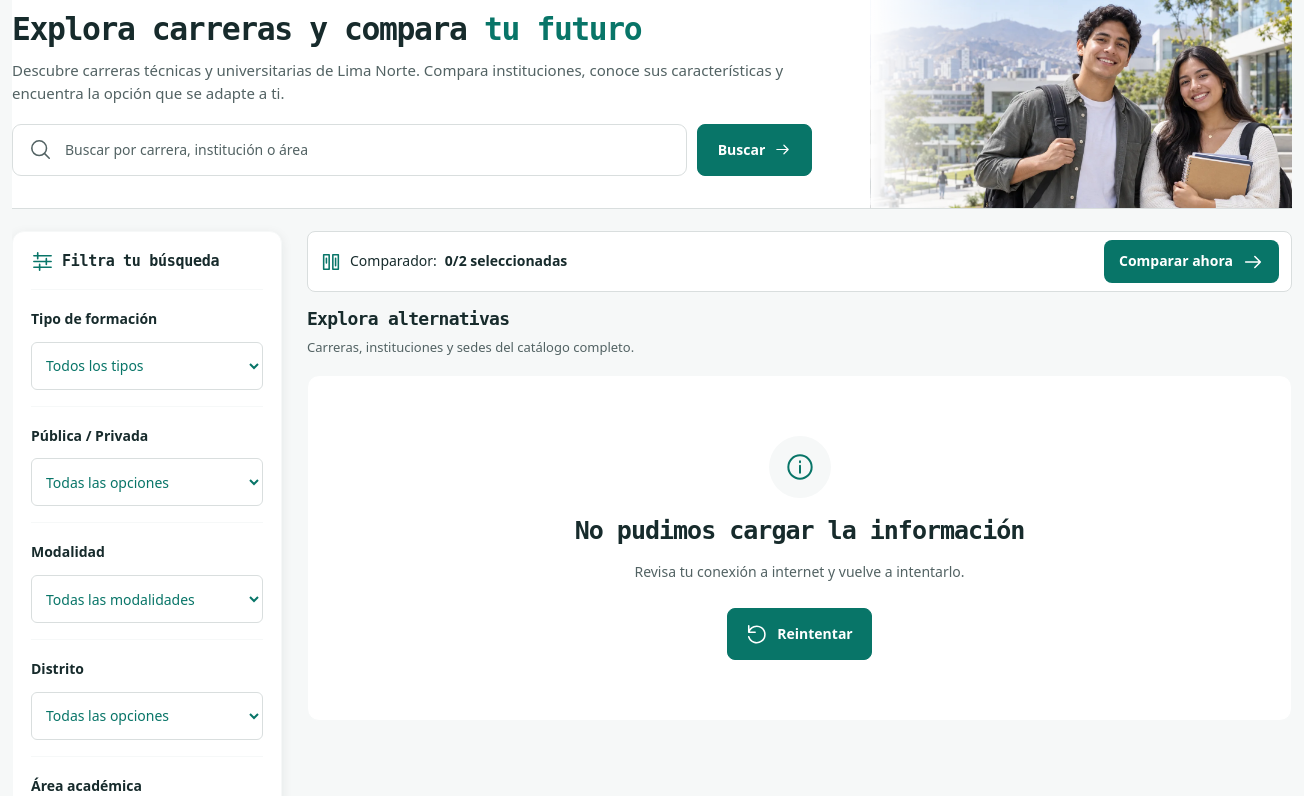
Test case: Catálogo HU01 › permite reintentar después de un error
expect the message is shown: met, box left=307, top=375, right=1292, bottom=721
Click the button "Reintentar" at (800, 634), box left=727, top=608, right=872, bottom=660
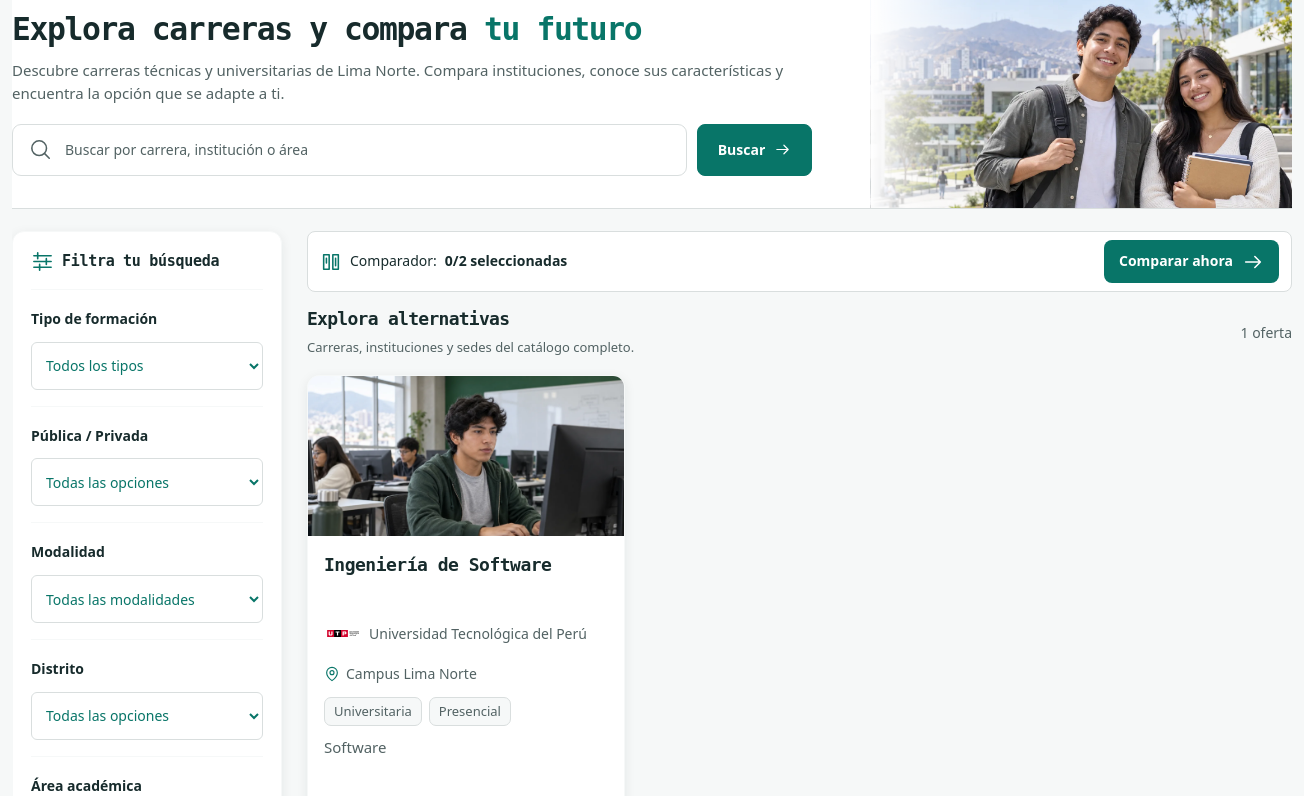
expect the heading "Ingeniería de Software" is shown: met, box left=324, top=554, right=551, bottom=575
